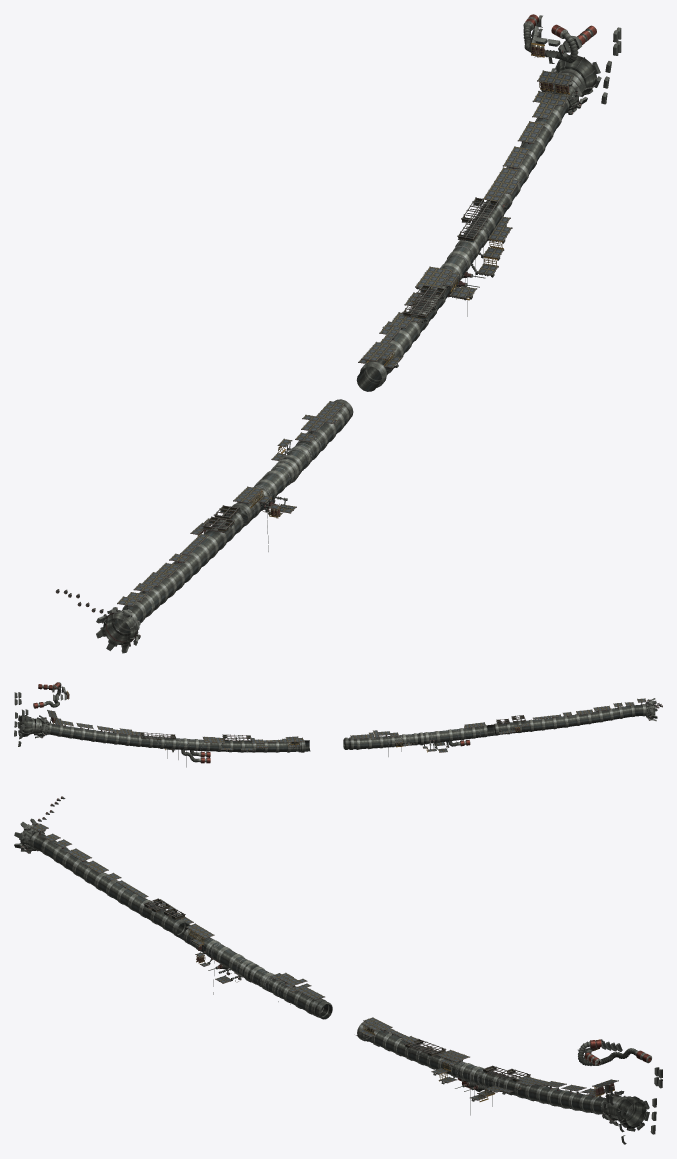
The model's file is extras-palcab.glb.
3 renders of one model, top to bottom at view 1: azimuth 30°, elevation 25°; view 2: azimuth 150°, elevation 25°; view 3: azimuth 270°, elevation 25°, orthographic. The views are drawn at different scales.
Parts seen in each view (by area): view 1: Mesh_1.010; view 2: Mesh_1.010; view 3: Mesh_1.010.
Boxes of the visible parts, x1=… form: Mesh_1.010: x1=55, y1=14, x2=621, y2=653; Mesh_1.010: x1=14, y1=682, x2=662, y2=767; Mesh_1.010: x1=14, y1=796, x2=662, y2=1144.
Size of the model in its own units: 536 by 113 by 430.
31 materials, 31 textured.
